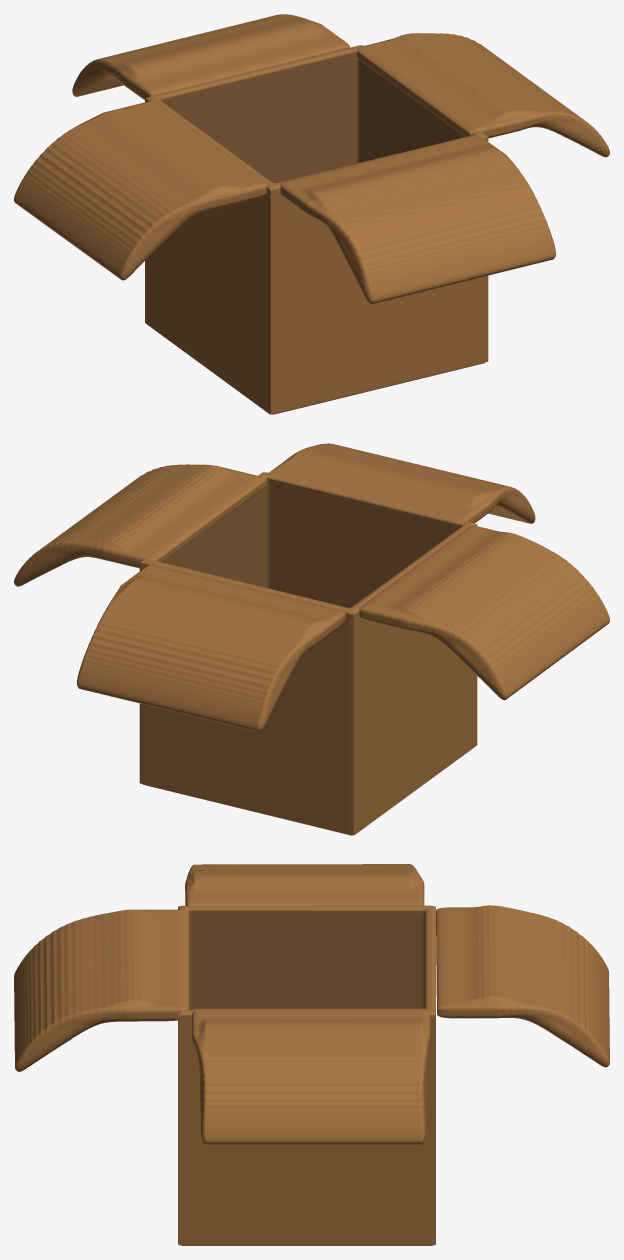
Rendered from umgeknicktesPaket.obj.
3 renders of one model, top to bottom at view 1: azimuth 30°, elevation 25°; view 2: azimuth 150°, elevation 25°; view 3: azimuth 270°, elevation 25°, orthographic. The views are drawn at different scales.
Visible parts, largest first — view 1: 23_02_03_06_01_50_711_1, 23_02_03_06_01_50_711_0; view 2: 23_02_03_06_01_50_711_1, 23_02_03_06_01_50_711_0; view 3: 23_02_03_06_01_50_711_1, 23_02_03_06_01_50_711_0.
Boxes of the visible parts, x1,y1,x2,y2 form: 23_02_03_06_01_50_711_1: (14,14,609,303); 23_02_03_06_01_50_711_0: (145,45,488,414); 23_02_03_06_01_50_711_1: (14,443,609,731); 23_02_03_06_01_50_711_0: (139,472,477,835); 23_02_03_06_01_50_711_1: (14,864,609,1144); 23_02_03_06_01_50_711_0: (178,905,435,1245).
Size of the model in its own units: 13.24 by 5.97 by 13.45.
